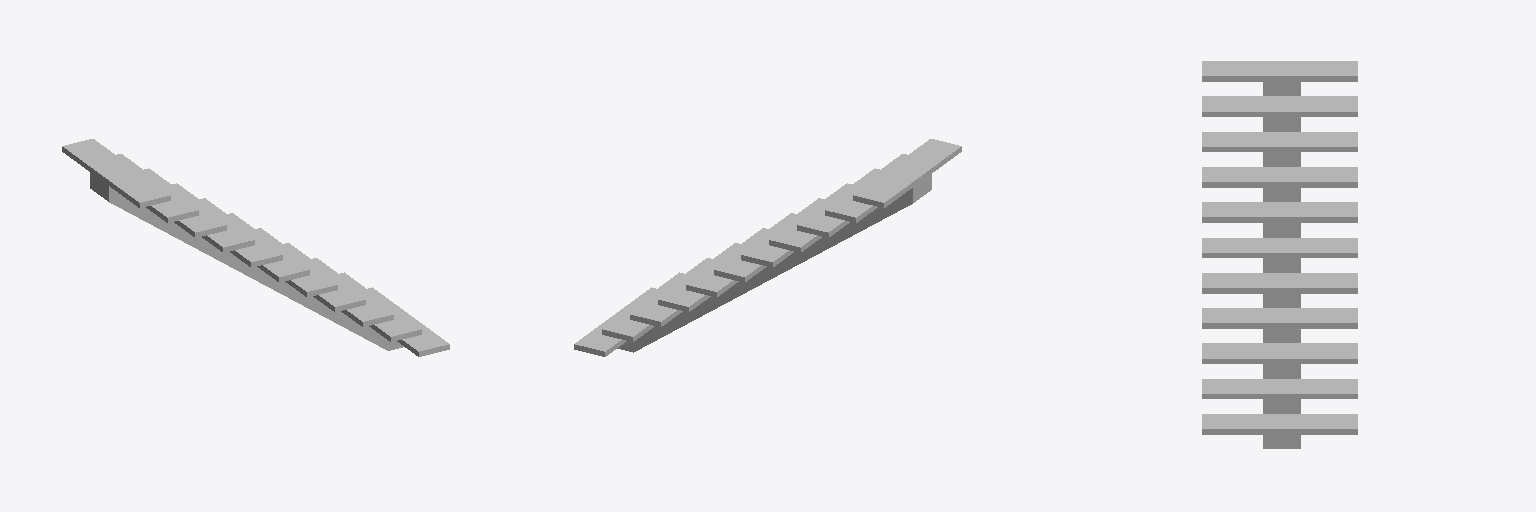
File: stairsOpenSingle.obj
3 views of the same model, side by side, from view 1: azimuth 30°, elevation 25°; view 2: azimuth 150°, elevation 25°; view 3: azimuth 270°, elevation 25° (orthographic).
Visible parts, largest first — view 1: stairsOpenSingle, Group; view 2: stairsOpenSingle, Group; view 3: stairsOpenSingle, Group.
Part boxes in pixels (bbox=[...]): stairsOpenSingle: bbox=[62, 139, 449, 356]; Group: bbox=[90, 172, 403, 350]; stairsOpenSingle: bbox=[574, 139, 961, 356]; Group: bbox=[617, 174, 931, 352]; stairsOpenSingle: bbox=[1202, 61, 1357, 434]; Group: bbox=[1263, 82, 1300, 448].
Size of the model in its own units: 1.82 by 1.34 by 0.79.